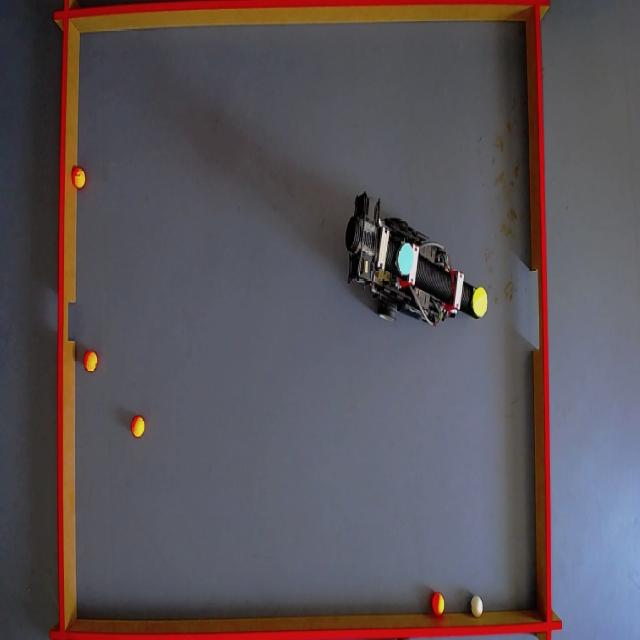orange: (130, 416, 146, 438), (85, 352, 99, 373), (433, 593, 446, 615), (74, 168, 88, 188)
robot: (339, 196, 494, 330)
robot-front: (471, 285, 490, 316)
robot-rear: (396, 244, 414, 278)
white: (472, 596, 486, 619)
